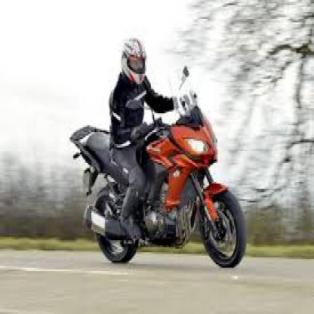Motocicleta: (66, 101, 249, 271)
